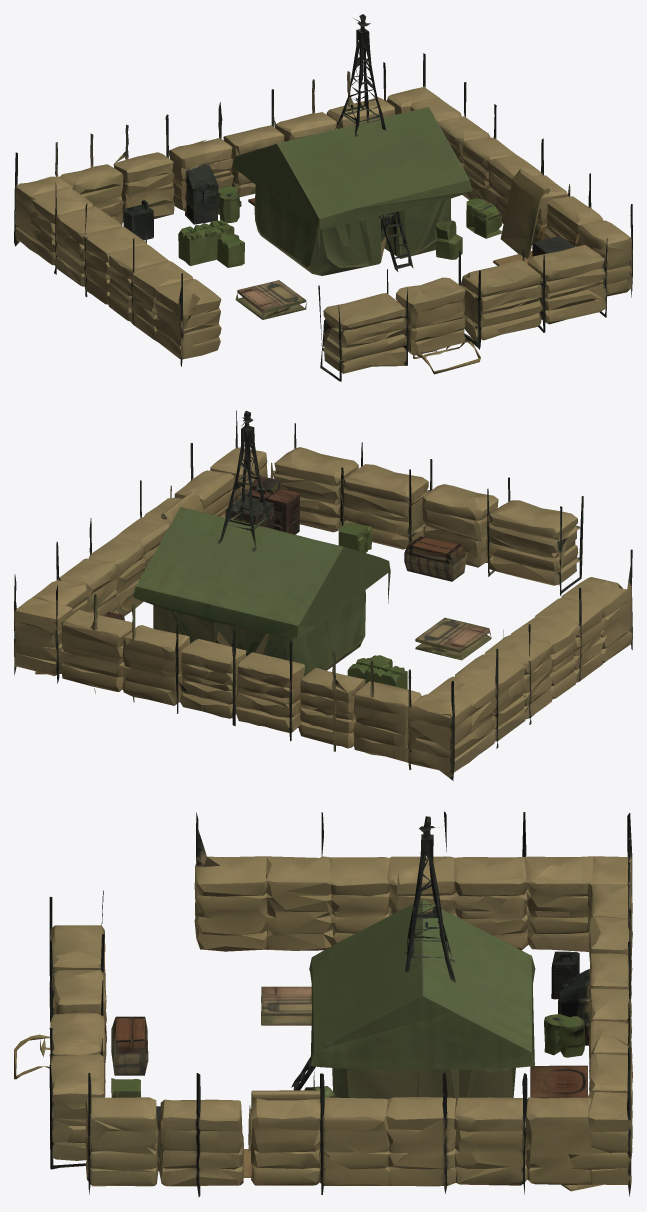
3 renders of one model, top to bottom at view 1: azimuth 30°, elevation 25°; view 2: azimuth 150°, elevation 25°; view 3: azimuth 270°, elevation 25°, orthographic. The views are drawn at different scales.
Parts seen in each view (by area): view 1: output_unwrapped; view 2: output_unwrapped; view 3: output_unwrapped.
Boxes of the visible parts, <box> form: output_unwrapped: <box>14,14,632,381</box>; output_unwrapped: <box>14,410,632,780</box>; output_unwrapped: <box>14,811,632,1197</box>.
Size of the model in its own units: 1.9 by 0.9892 by 1.89.
Materials: 1 (1 with a texture image).
